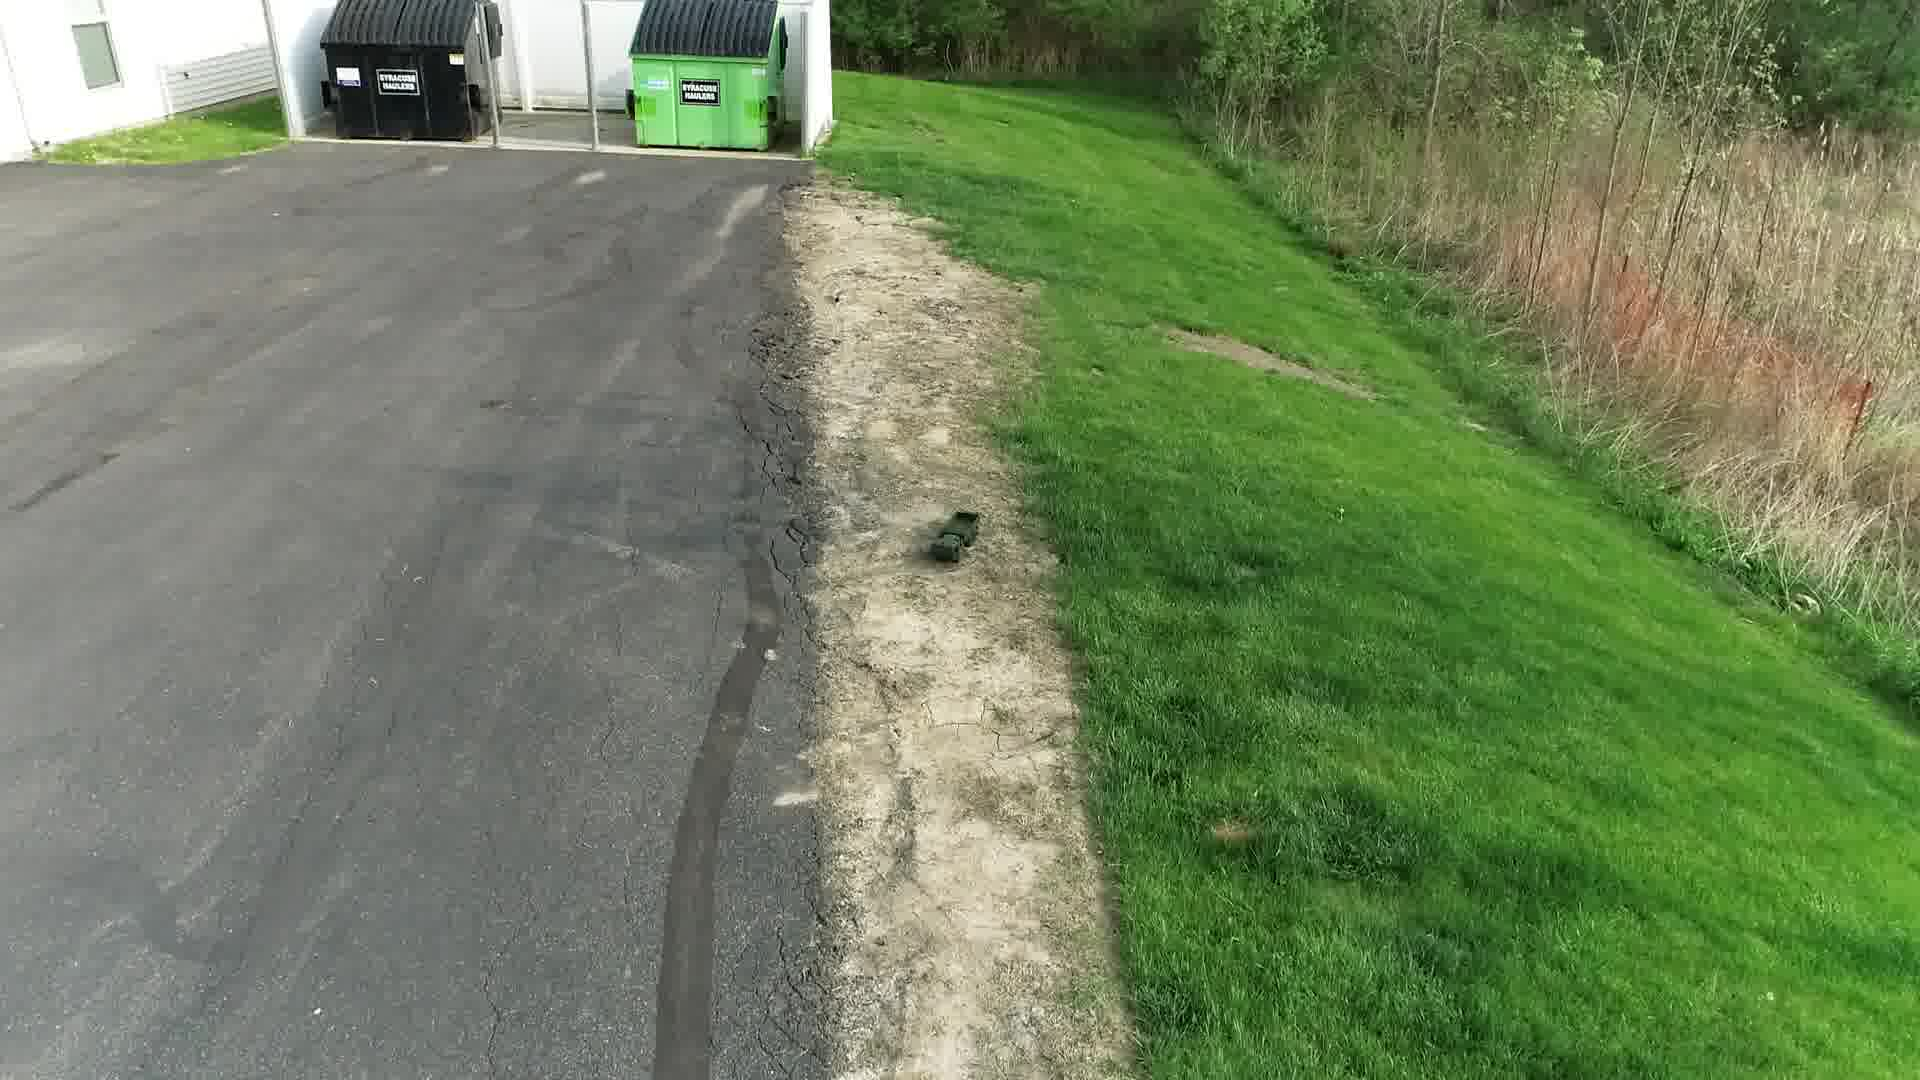transporter9: (924, 506, 984, 564)
